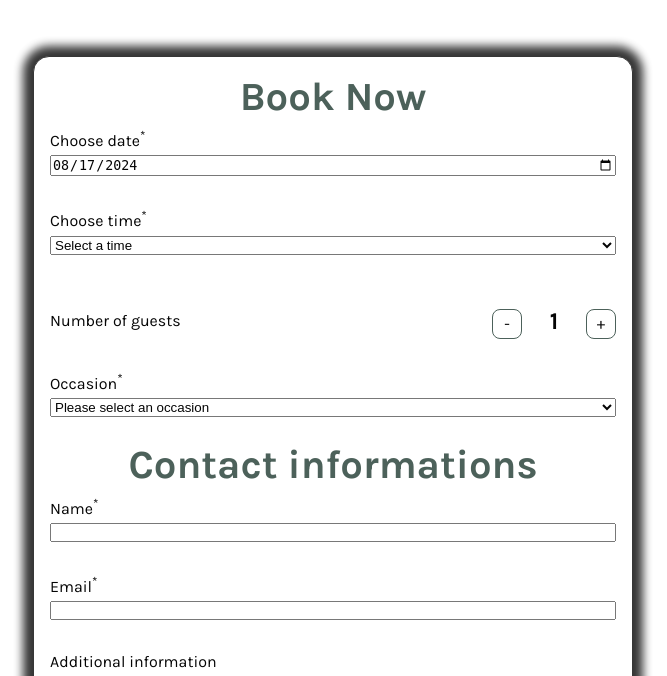
Test: set an empty date
Step 1. Clear the date field with test id "input-date" → point(333, 166), box [50,155,616,176]
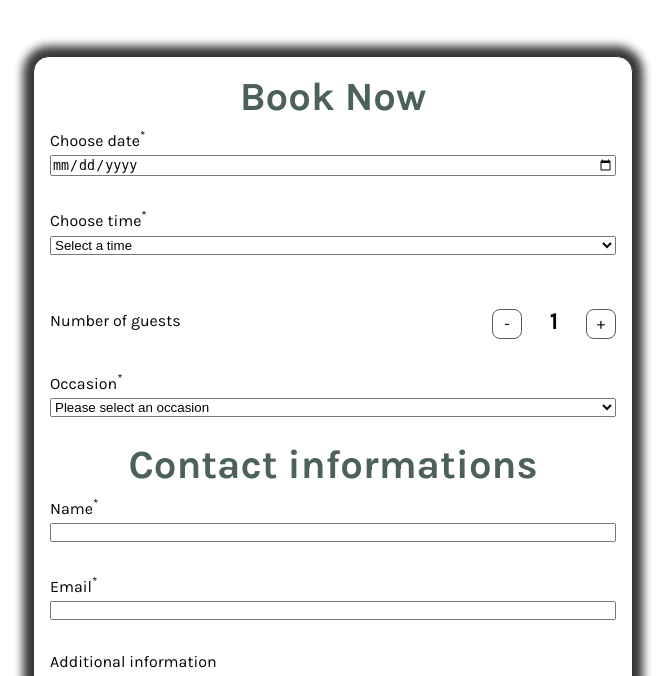
Step 2. Leave the date field with test id "input-date", box [50,155,616,176]
(page scrolled)
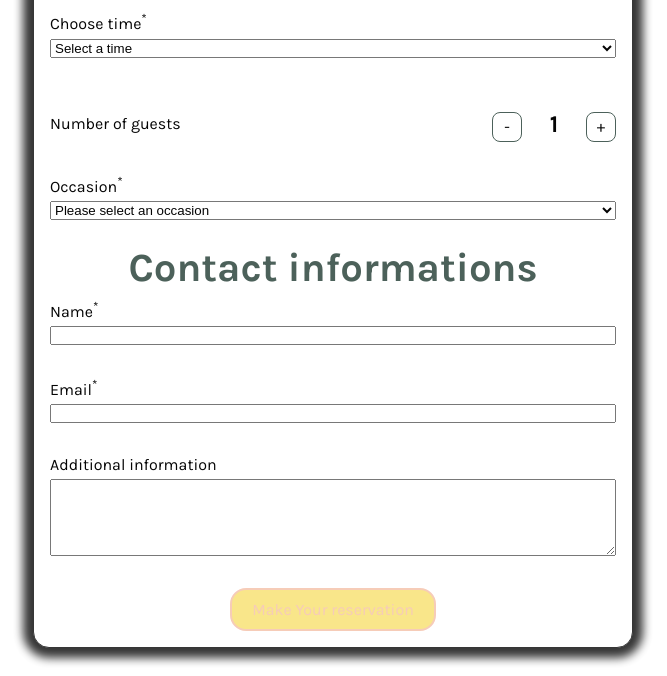
Check: the button "Make Your reservation" is disabled, box [230,588,436,631]
